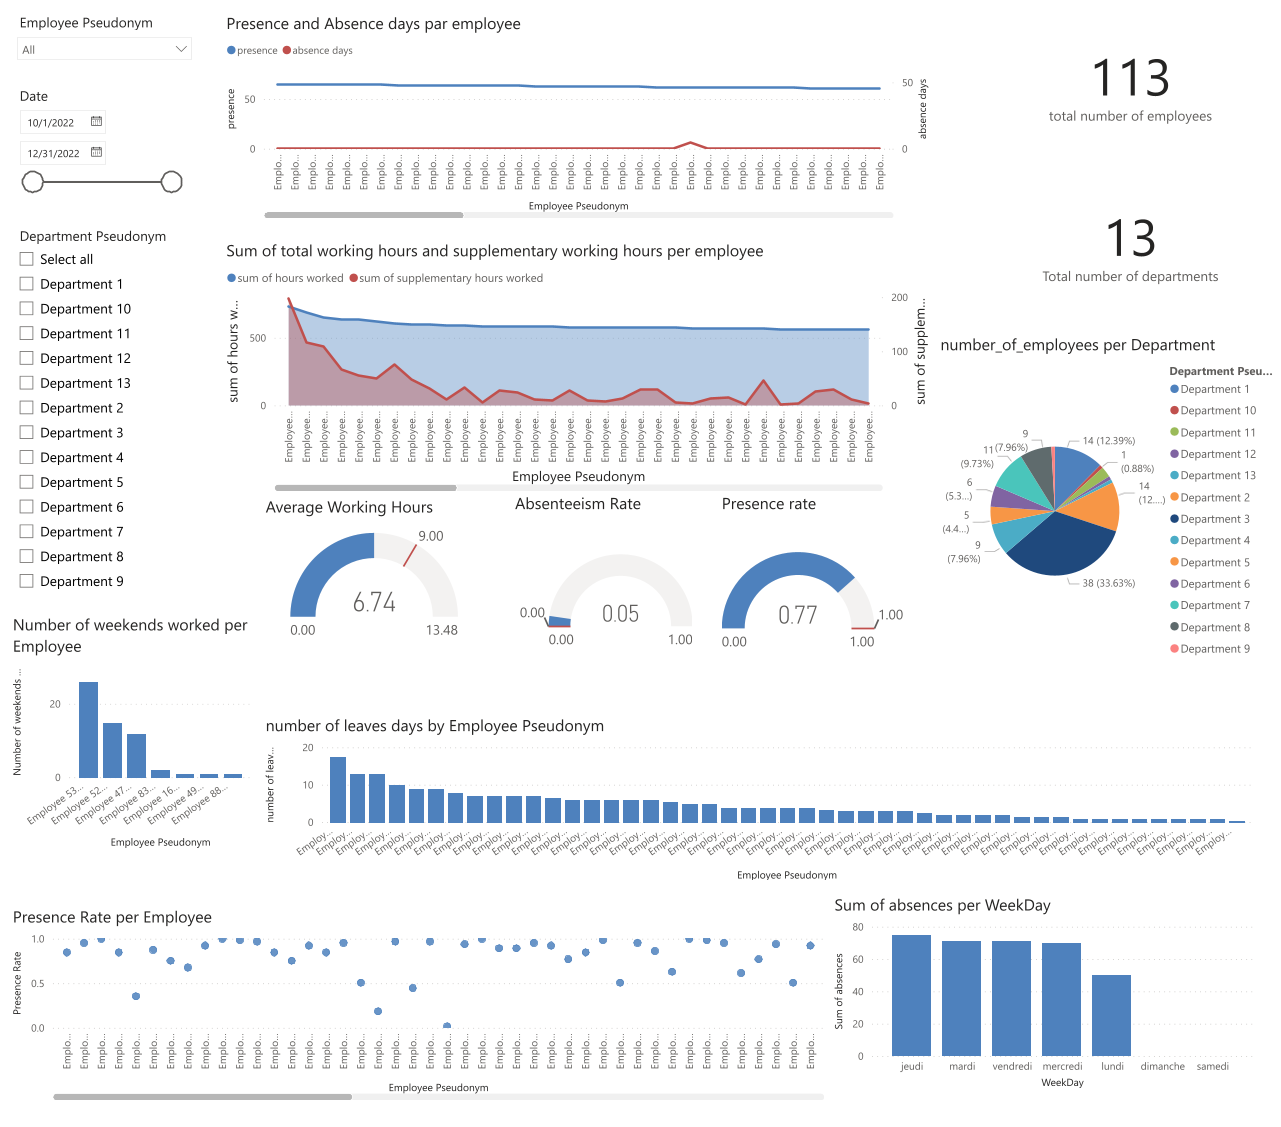

The page's visual inventory and layout, read from the dashboard file:
{"tool":"powerbi","page":{"name":"HRdashboard","canvas":[1500,1300],"ordinal":0},"visuals":[{"type":"slicer","fields":{"Values":["public departmentdimension.Department Pseudonym"]},"box":[10,250,250,465.7],"z":0},{"type":"slicer","fields":{"Values":["public employeedimension.Employee Pseudonym"]},"box":[10,0,225,105],"z":1000},{"type":"slicer","fields":{"Values":["public datedimension.Date"]},"box":[10,86,212,162],"z":2000},{"type":"pieChart","title":"number_of_employees per Department","fields":{"Y":["Sum(public departmentdimension.number_of_employees)"],"Series":["public departmentdimension.Department Pseudonym"]},"box":[1095,380,405,391.2],"z":3000},{"type":"lineChart","title":"Presence and Absence days par employee","fields":{"Y2":["Sum(public hrfact.Absent)"],"Y":["Sum(public hrfact.present)"],"Category":["public employeedimension.Employee Pseudonym"]},"box":[260,3.3,835,246.7],"z":4000},{"type":"areaChart","title":"Sum of total working hours and supplementary working hours per employee","fields":{"Y":["Sum(public hrfact.total_working_time)"],"Y2":["Sum(public hrfact.supplementary_working_time)"],"Category":["public employeedimension.Employee Pseudonym"]},"box":[260,270,835,300],"z":5000},{"type":"clusteredColumnChart","title":"Number of weekends worked per Employee","fields":{"Y":["Sum(public hrfact.weekend)"],"Category":["public employeedimension.Employee Pseudonym"]},"box":[10,708.3,290,280],"z":6000},{"type":"card","fields":{"Values":["CountNonNull(public departmentdimension.department_id)"]},"box":[1145,167.5,355,212.5],"z":8000},{"type":"gauge","fields":{"Y":["public hrfact.Average Working Hours per Day per Employee"]},"box":[306,570,264,178],"z":9000},{"type":"gauge","fields":{"Y":["public hrfact.Absenteeism Rate per Employee"]},"box":[598,566,218,236],"z":10000},{"type":"scatterChart","title":"Presence Rate per Employee","fields":{"Y":["public hrfact.Employee Presence Rate"],"X":["public employeedimension.Employee Pseudonym"]},"box":[10,1050,960,232.9],"z":11000},{"type":"clusteredColumnChart","fields":{"Y":["Sum(public hrfact.congee)"],"Category":["public employeedimension.Employee Pseudonym"]},"box":[305,825,1165,200],"z":12000},{"type":"gauge","fields":{"Y":["public hrfact.Presence rate"]},"box":[840,566,228,236],"z":13000},{"type":"clusteredColumnChart","title":"Sum of absences per WeekDay","fields":{"Category":["public datedimension.WeekDay"],"Y":["Sum(public hrfact.Absent)"]},"box":[971.4,1035.7,500,232.9],"z":14000},{"type":"card","fields":{"Values":["CountNonNull(public employeedimension.ID)"]},"box":[1145,3,355,165],"z":14001}]}

Visuals, with their boxes in screenshot pixels (x1, y1, x2, y2), scaled from the page's 1500x1300 canvas onto the 1281x1127 screenshot:
slicer - public departmentdimension.Department Pseudonym: <region>9, 217, 222, 620</region>
slicer - public employeedimension.Employee Pseudonym: <region>9, 0, 201, 91</region>
slicer - public datedimension.Date: <region>9, 75, 190, 215</region>
"number_of_employees per Department" pieChart: <region>935, 329, 1280, 669</region>
"Presence and Absence days par employee" lineChart: <region>222, 3, 935, 217</region>
"Sum of total working hours and supplementary working hours per employee" areaChart: <region>222, 234, 935, 494</region>
"Number of weekends worked per Employee" clusteredColumnChart: <region>9, 614, 256, 857</region>
card - CountNonNull(public departmentdimension.department_id): <region>978, 145, 1280, 329</region>
gauge - public hrfact.Average Working Hours per Day per Employee: <region>261, 494, 487, 648</region>
gauge - public hrfact.Absenteeism Rate per Employee: <region>511, 491, 697, 695</region>
"Presence Rate per Employee" scatterChart: <region>9, 910, 828, 1112</region>
clusteredColumnChart - Sum(public hrfact.congee) x public employeedimension.Employee Pseudonym: <region>260, 715, 1255, 889</region>
gauge - public hrfact.Presence rate: <region>717, 491, 912, 695</region>
"Sum of absences per WeekDay" clusteredColumnChart: <region>830, 898, 1257, 1100</region>
card - CountNonNull(public employeedimension.ID): <region>978, 3, 1280, 146</region>
